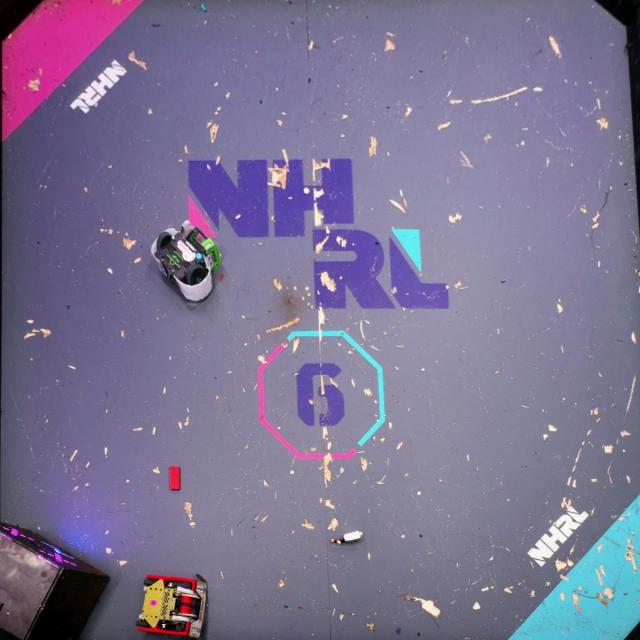housebot: (0, 518, 112, 640)
robot: (152, 217, 222, 306), (136, 569, 208, 640)
